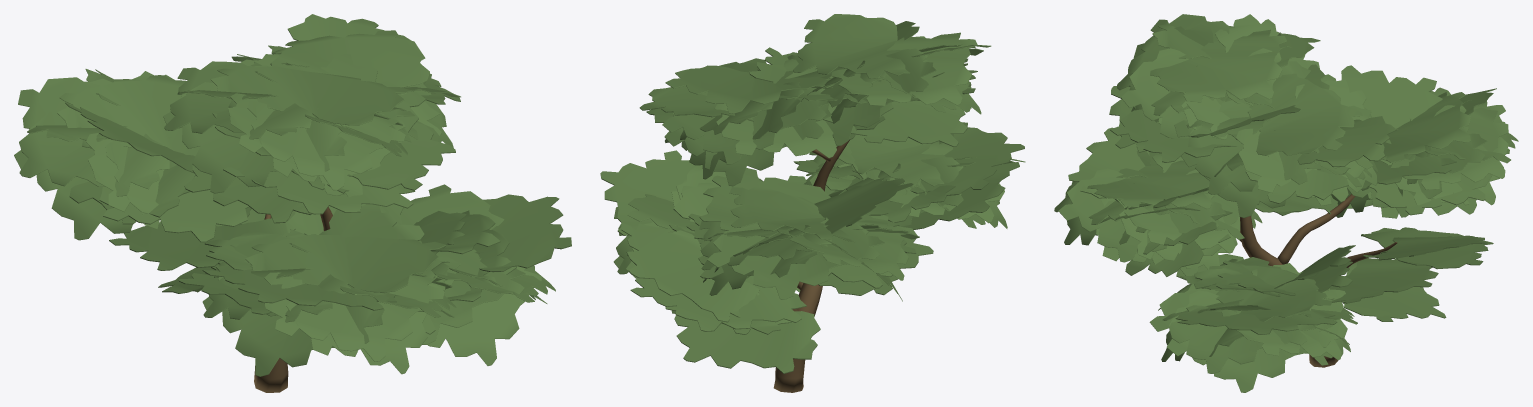
The model's file is NNtree1.fbx.
3 renders of one model, left to right at view 1: azimuth 30°, elevation 25°; view 2: azimuth 150°, elevation 25°; view 3: azimuth 270°, elevation 25°, orthographic. The views are drawn at different scales.
Visible parts, largest first — view 1: polySurface471; view 2: polySurface471; view 3: polySurface471.
Boxes of the visible parts, left/top/right/bottom form: polySurface471: left=14, top=14, right=571, bottom=392; polySurface471: left=600, top=14, right=1025, bottom=392; polySurface471: left=1054, top=14, right=1518, bottom=392.
Size of the model in its own units: 39.65 by 31.04 by 43.45.
